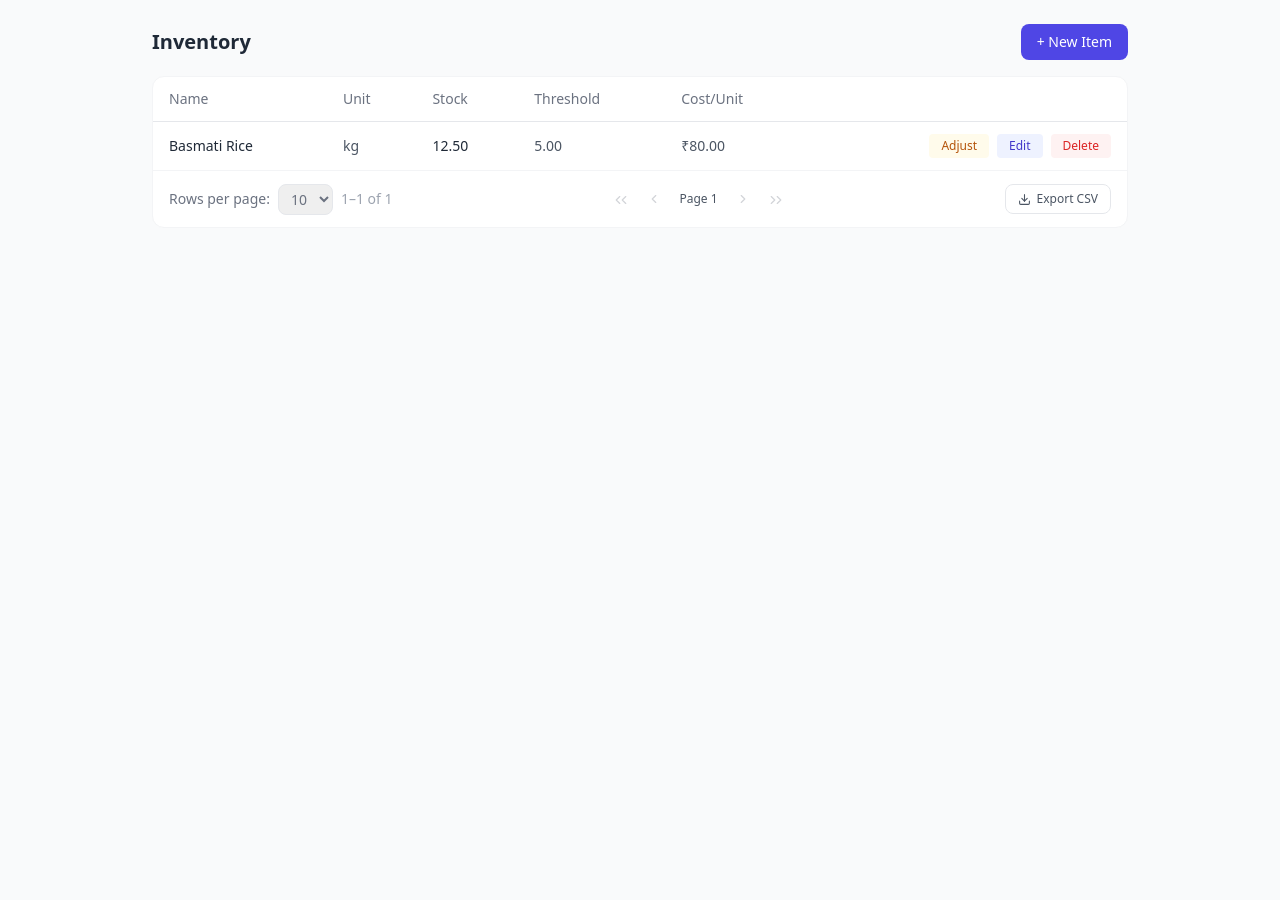
Scenario: InventoryList › opens Edit modal pre-filled
The width and height of the screenshot is (1280, 900).
Click the button with aria-label "edit basmati rice". click: click(1020, 146)
box: [997, 134, 1042, 158]
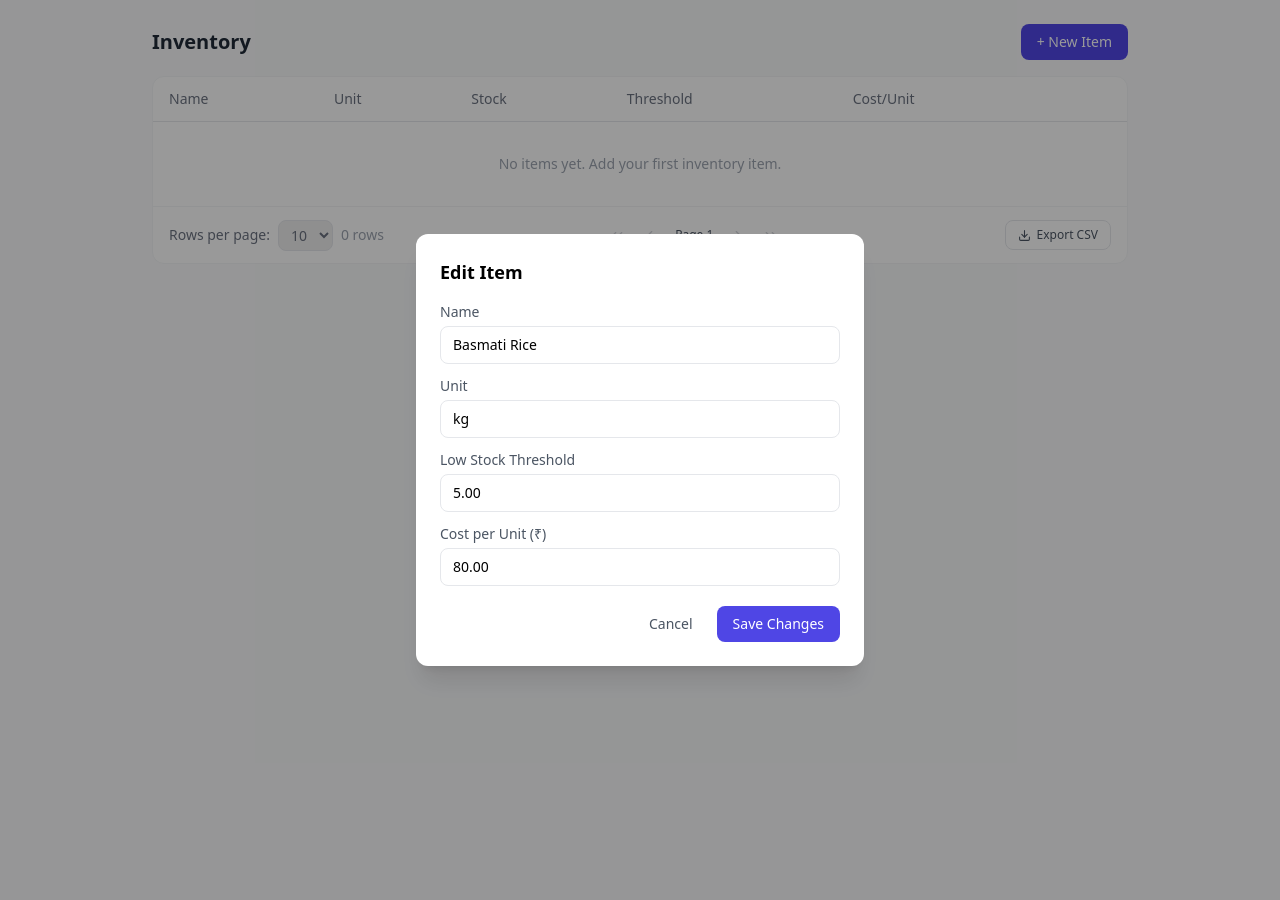
Check: the 1st field showing "Basmati Rice" is shown, box [440, 326, 840, 364]
